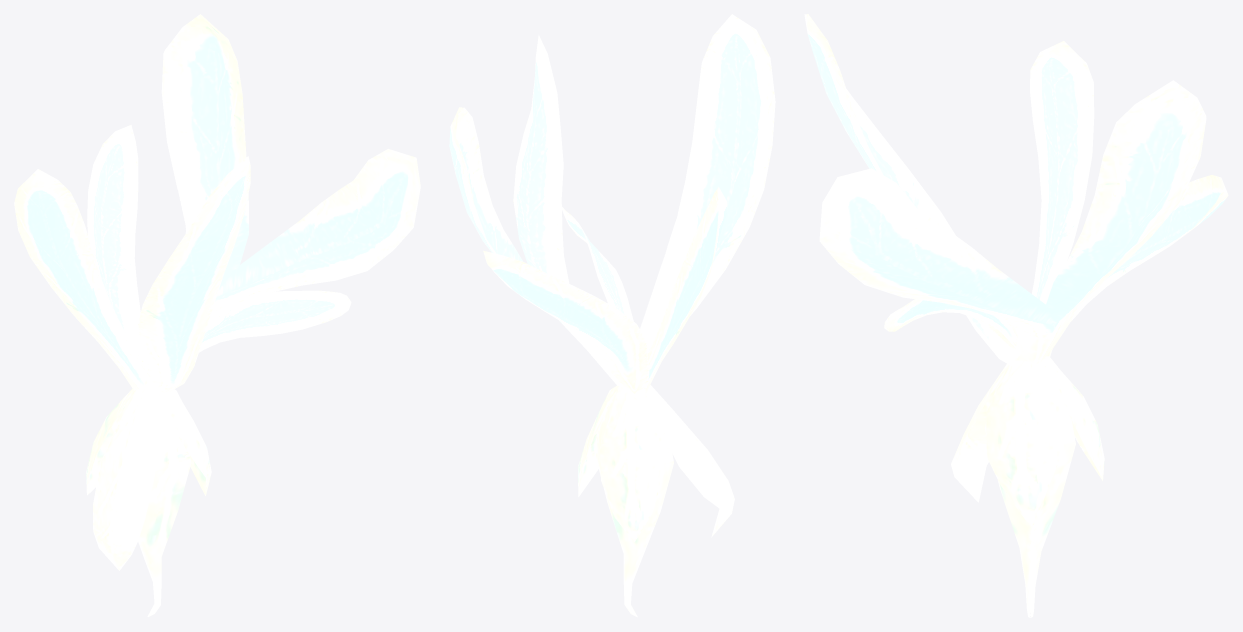
The picture shows the model from 3 angles, left to right: view 1: azimuth 30°, elevation 25°; view 2: azimuth 150°, elevation 25°; view 3: azimuth 270°, elevation 25°; orthographic projection. The views are drawn at different scales.
Visible parts, largest first — view 1: SM_Harralander_v2_LOD0; view 2: SM_Harralander_v2_LOD0; view 3: SM_Harralander_v2_LOD0.
Boxes of the visible parts, bbox=[...] form: SM_Harralander_v2_LOD0: bbox=[14, 14, 420, 616]; SM_Harralander_v2_LOD0: bbox=[449, 14, 775, 617]; SM_Harralander_v2_LOD0: bbox=[804, 14, 1228, 617].
Size of the model in its own units: 0.2377 by 0.4177 by 0.2654.
1 material, 1 textured.
